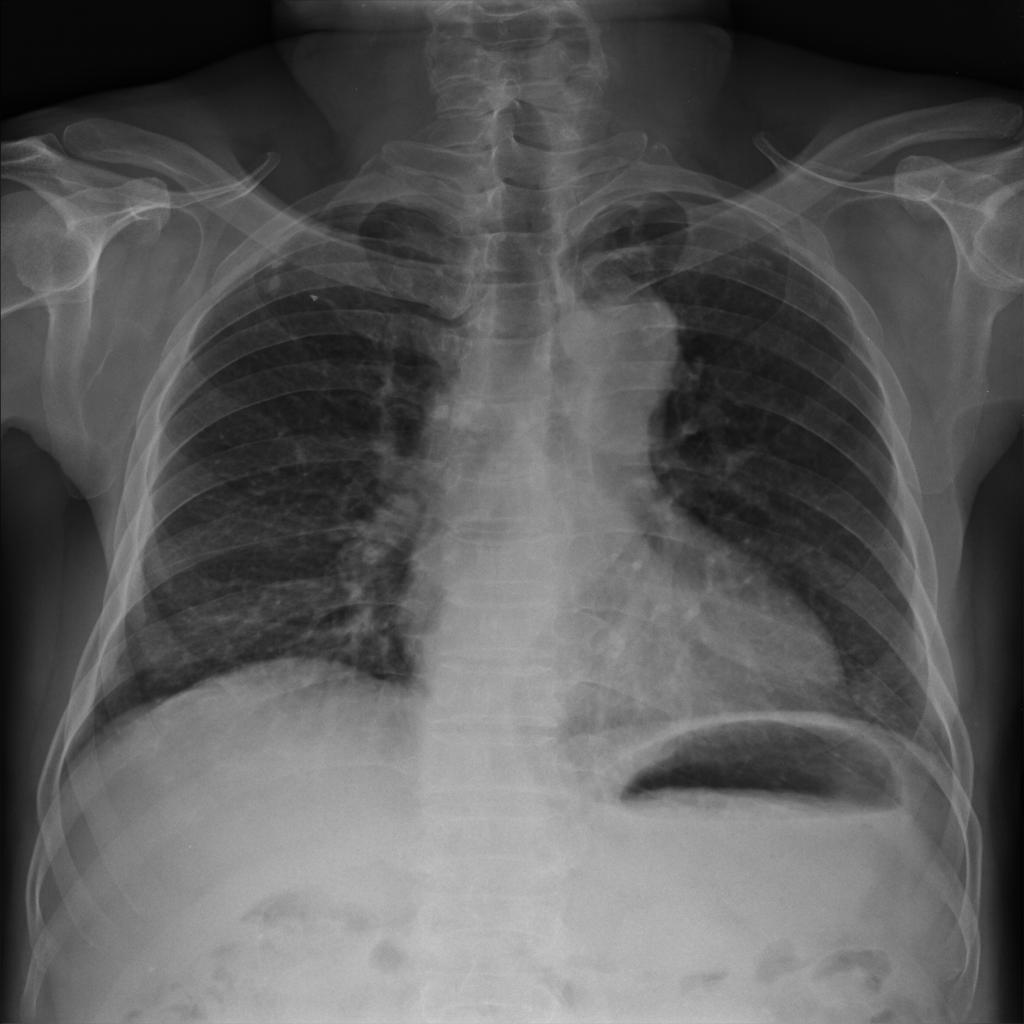Nodule: (272, 273, 284, 292), (271, 259, 288, 270)
